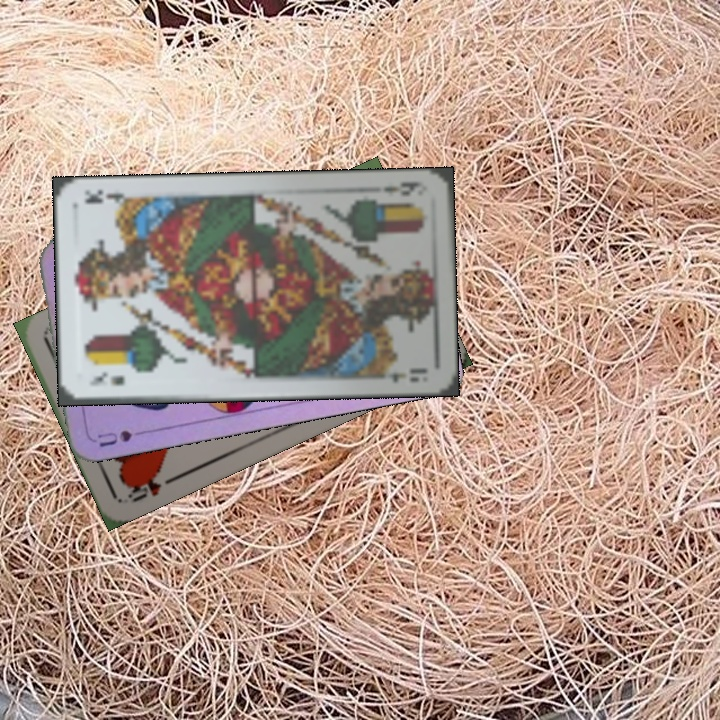EK: (379, 177, 423, 197), (85, 369, 127, 389)
HO: (123, 470, 178, 505)
SU: (93, 426, 152, 450)
